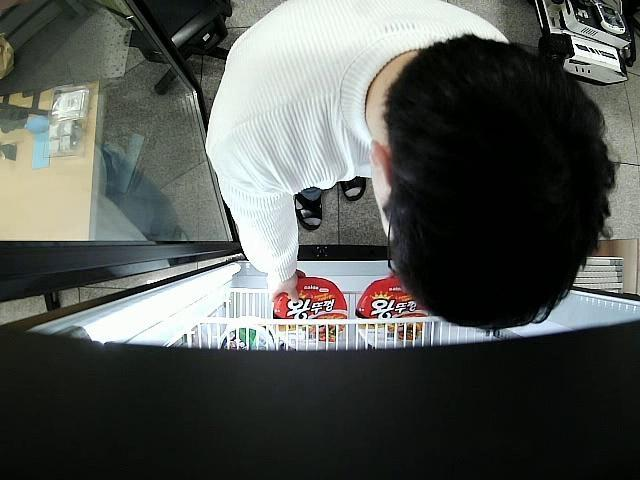10_wangTtukkeong: (270, 278, 347, 350)
